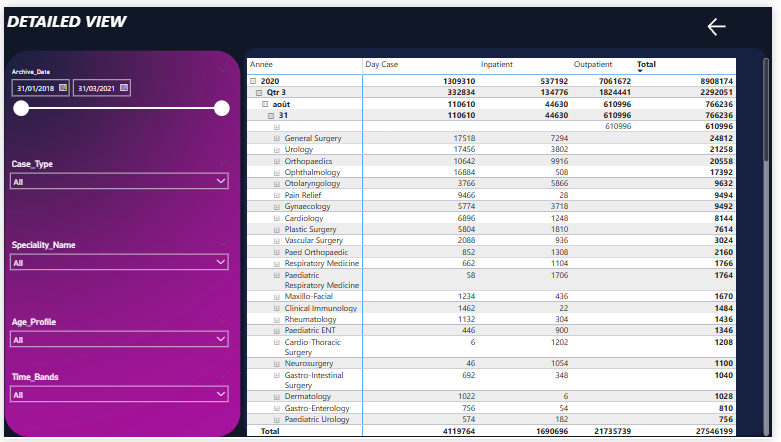

The dashboard page shown, as its layout file describes it:
{"tool":"powerbi","page":{"name":"Detail","canvas":[1280,720],"ordinal":1},"visuals":[{"type":"slicer","fields":{"Values":["All_Data.Archive_Date"]},"box":[0,96,384,112],"z":0},{"type":"slicer","fields":{"Values":["All_Data.Case_Type"]},"box":[0,248.2,384.3,112],"z":1000},{"type":"slicer","fields":{"Values":["All_Data.Speciality_Name"]},"box":[0,384,384,80],"z":2000},{"type":"textbox","box":[0,0,372.5,63.8],"z":3000},{"type":"slicer","fields":{"Values":["All_Data.Age_Profile"]},"box":[0,512,384,80],"z":4000},{"type":"slicer","fields":{"Values":["All_Data.Time_Bands"]},"box":[0,603.6,384.3,79.5],"z":5000},{"type":"pivotTable","fields":{"Rows":["All_Data.Archive_Date.Variation.Hiérarchie de dates.Année","All_Data.Archive_Date.Variation.Hiérarchie de dates.Trimestre","All_Data.Archive_Date.Variation.Hiérarchie de dates.Mois","All_Data.Archive_Date.Variation.Hiérarchie de dates.Jour","All_Data.Specialty_Name","All_Data.Age_Profile","All_Data.Time_Bands"],"Columns":["All_Data.Case_Type"],"Values":["Sum(All_Data.Total)"]},"box":[400,80,880,640],"z":6000},{"type":"actionButton","box":[1167.5,12.5,63.8,40],"z":6001}]}

Visuals, with their boxes in screenshot pixels (x1, y1, x2, y2), scaled from the page's 1280x720 canvas onto the 781x442 screenshot:
slicer - All_Data.Archive_Date: box=[0, 59, 234, 128]
slicer - All_Data.Case_Type: box=[0, 152, 234, 221]
slicer - All_Data.Speciality_Name: box=[0, 236, 234, 285]
textbox: box=[0, 0, 227, 39]
slicer - All_Data.Age_Profile: box=[0, 314, 234, 363]
slicer - All_Data.Time_Bands: box=[0, 371, 234, 419]
pivotTable - All_Data.Archive_Date.Variation.Hiérarchie de dates.Année x All_Data.Archive_Date.Variation.Hiérarchie de dates.Trimestre: box=[244, 49, 780, 441]
actionButton: box=[712, 8, 751, 32]
